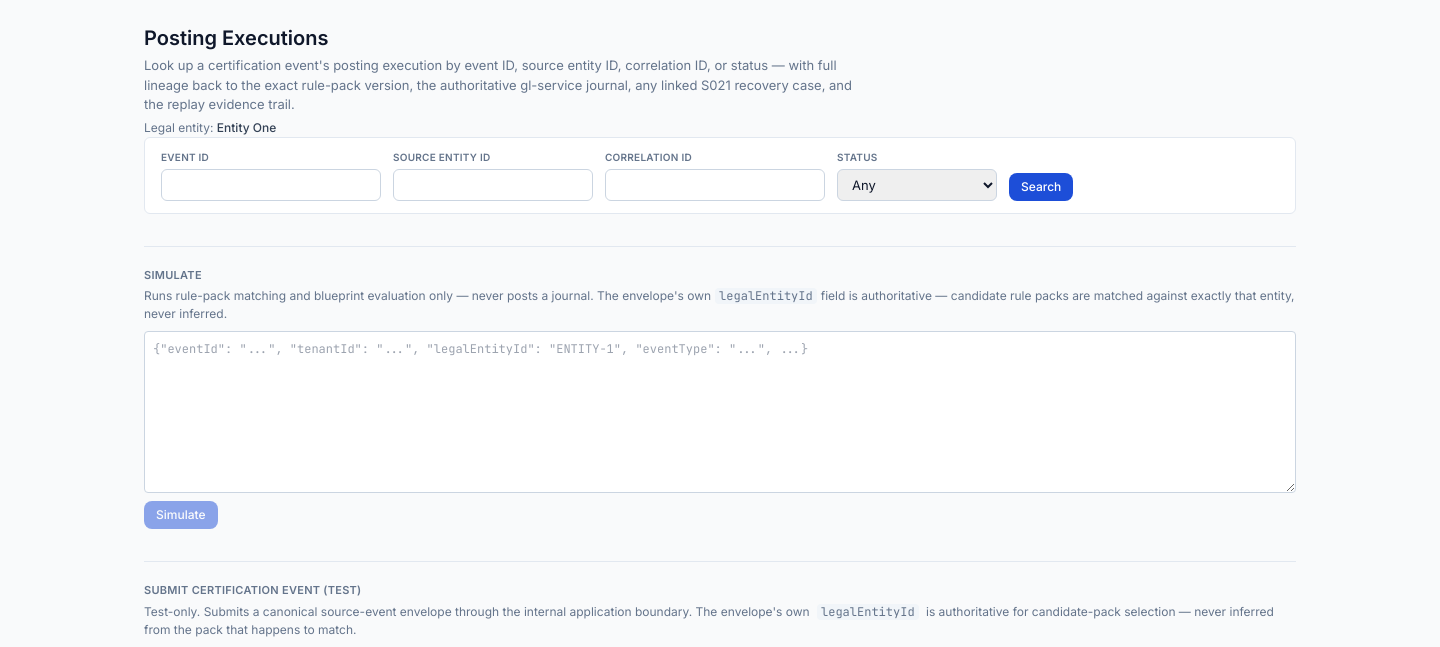
it: PostingExecutions screen › shows a backend-error state on any other failure
The image size is (1440, 647).
Click the button with test id "posting-executions-search-button" at (1041, 186), box x1=1009 y1=172 x2=1073 y2=200
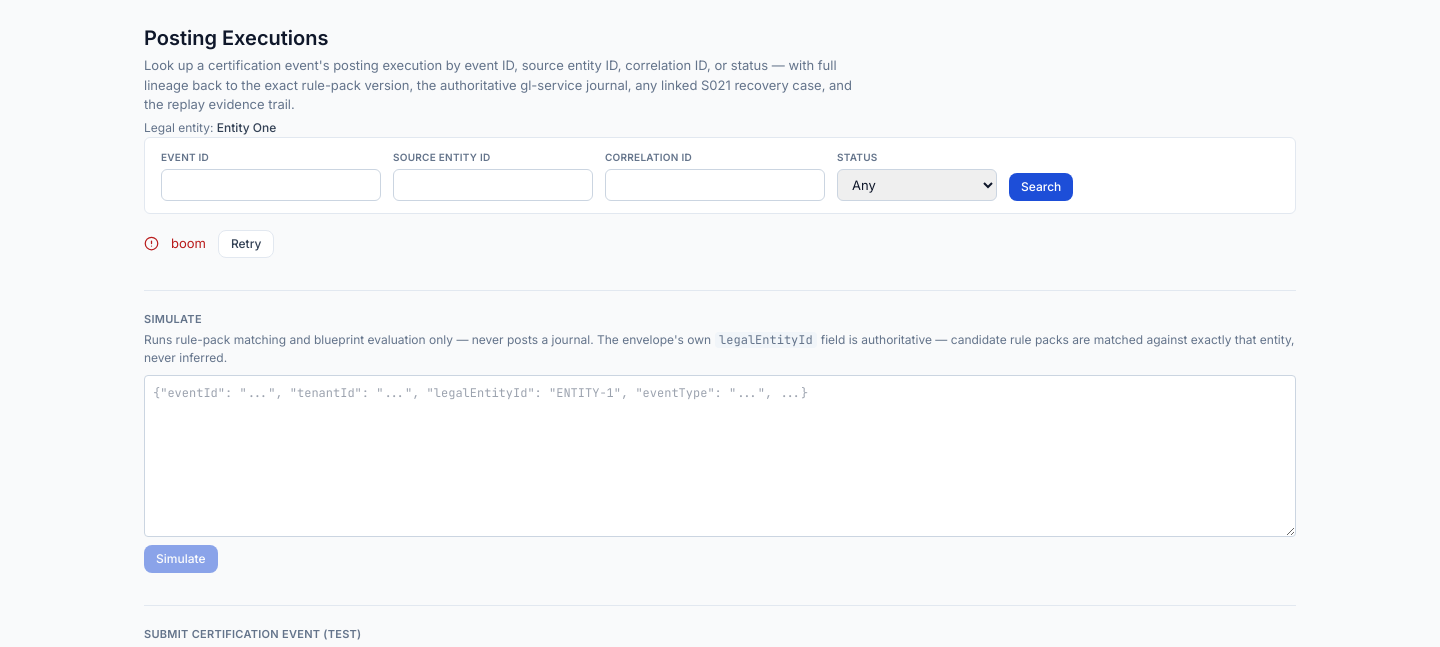
Expected: the element with test id "posting-executions-error" shows "boom", x1=171 y1=235 x2=206 y2=251
